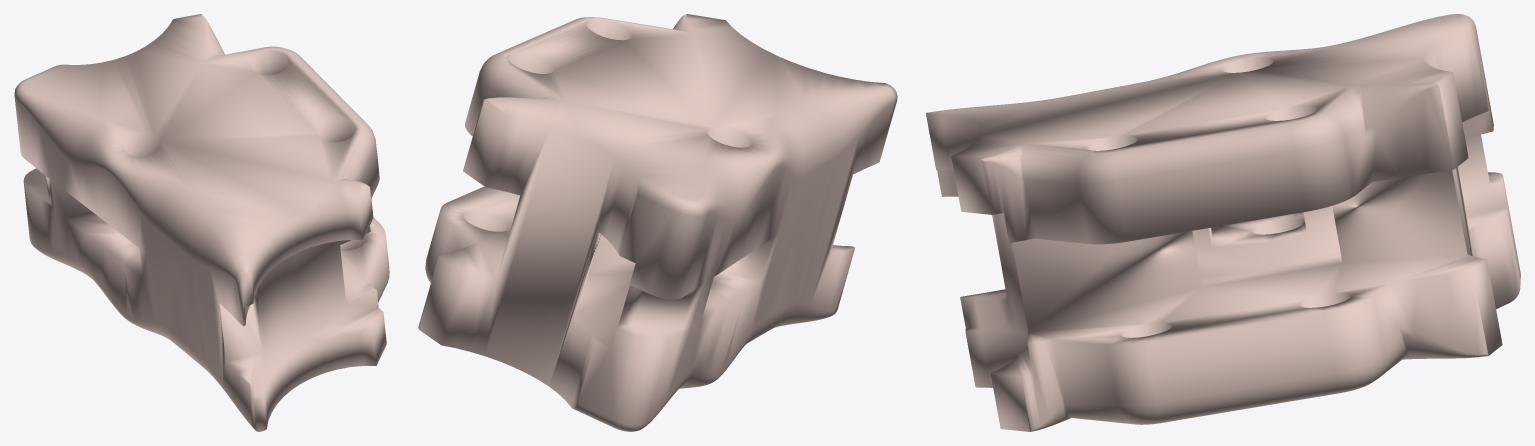
The model's file is pinky_mlp_1.obj.
3 renders of one model, left to right at view 1: azimuth 30°, elevation 25°; view 2: azimuth 150°, elevation 25°; view 3: azimuth 270°, elevation 25°, orthographic. The views are drawn at different scales.
Bounding box in the file's own units: 15.89 × 15.63 × 22.54.
